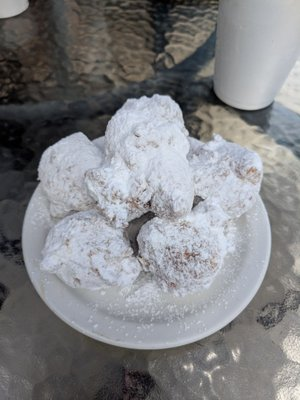pizza: (212, 0, 300, 113)
